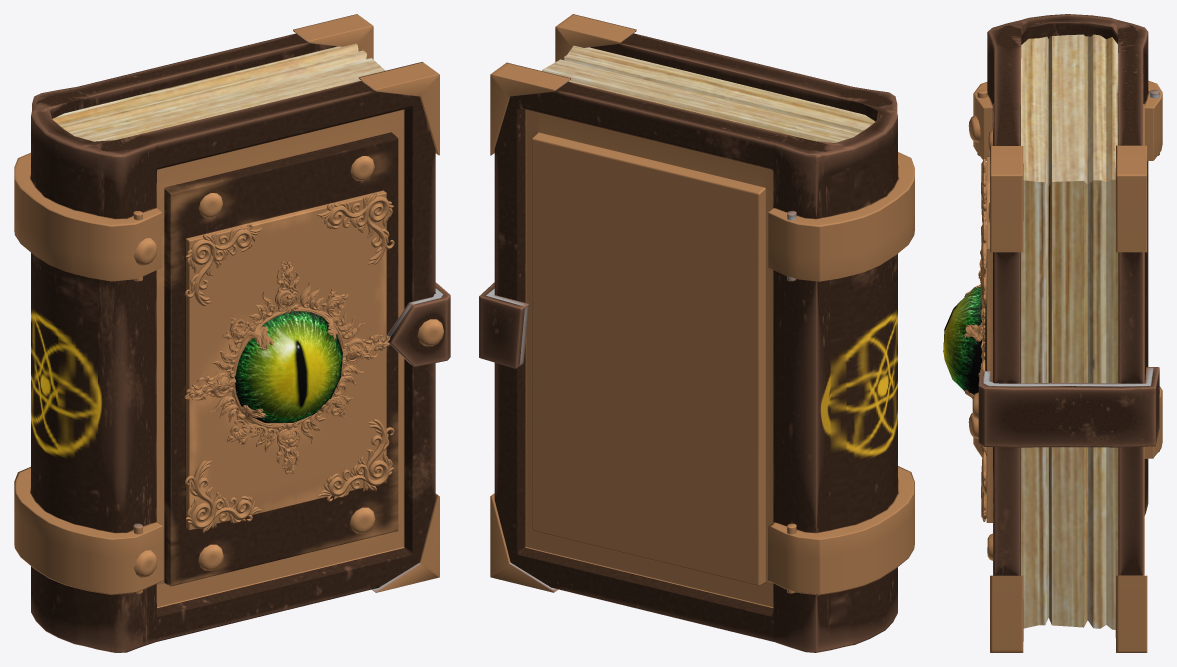
The model's file is livre.glb.
3 views of the same model, side by side, from view 1: azimuth 30°, elevation 25°; view 2: azimuth 150°, elevation 25°; view 3: azimuth 270°, elevation 25° (orthographic). The views are drawn at different scales.
Visible parts, largest first — view 1: book:Sphere group1, group1 book:polySurface6 book:book, group1 book:book1:det4, group1 book:pCube1, group1 book:polySurface162, group1 book:book book:polySurface44; view 2: book:Sphere group1, group1 book:polySurface6 book:book, group1 book:book book:polySurface44; view 3: group1 book:polySurface6 book:book, book:Sphere group1, group1 book:book book:polySurface44, group1 book:pCube1, group1 book:polySurface162, group1 book:book1:det4.
Part boxes in pixels (box(x1,y1,x2,y2)): book:Sphere group1: box(14, 14, 439, 652); group1 book:polySurface6 book:book: box(52, 43, 385, 141); group1 book:book1:det4: box(184, 261, 390, 474); group1 book:pCube1: box(235, 310, 342, 422); group1 book:polySurface162: box(185, 192, 394, 532); group1 book:book book:polySurface44: box(387, 282, 450, 366); book:Sphere group1: box(490, 14, 914, 652); group1 book:polySurface6 book:book: box(542, 45, 875, 142); group1 book:book book:polySurface44: box(479, 282, 528, 368); group1 book:polySurface6 book:book: box(1021, 34, 1118, 629); book:Sphere group1: box(973, 14, 1162, 652); group1 book:book book:polySurface44: box(978, 367, 1159, 447); group1 book:pCube1: box(943, 286, 986, 394); group1 book:polySurface162: box(981, 158, 986, 521); group1 book:book1:det4: box(964, 249, 985, 448).
Bounding box in the file's own units: 0.0633 × 0.0813 × 0.0338.
2 materials, 2 textured.
